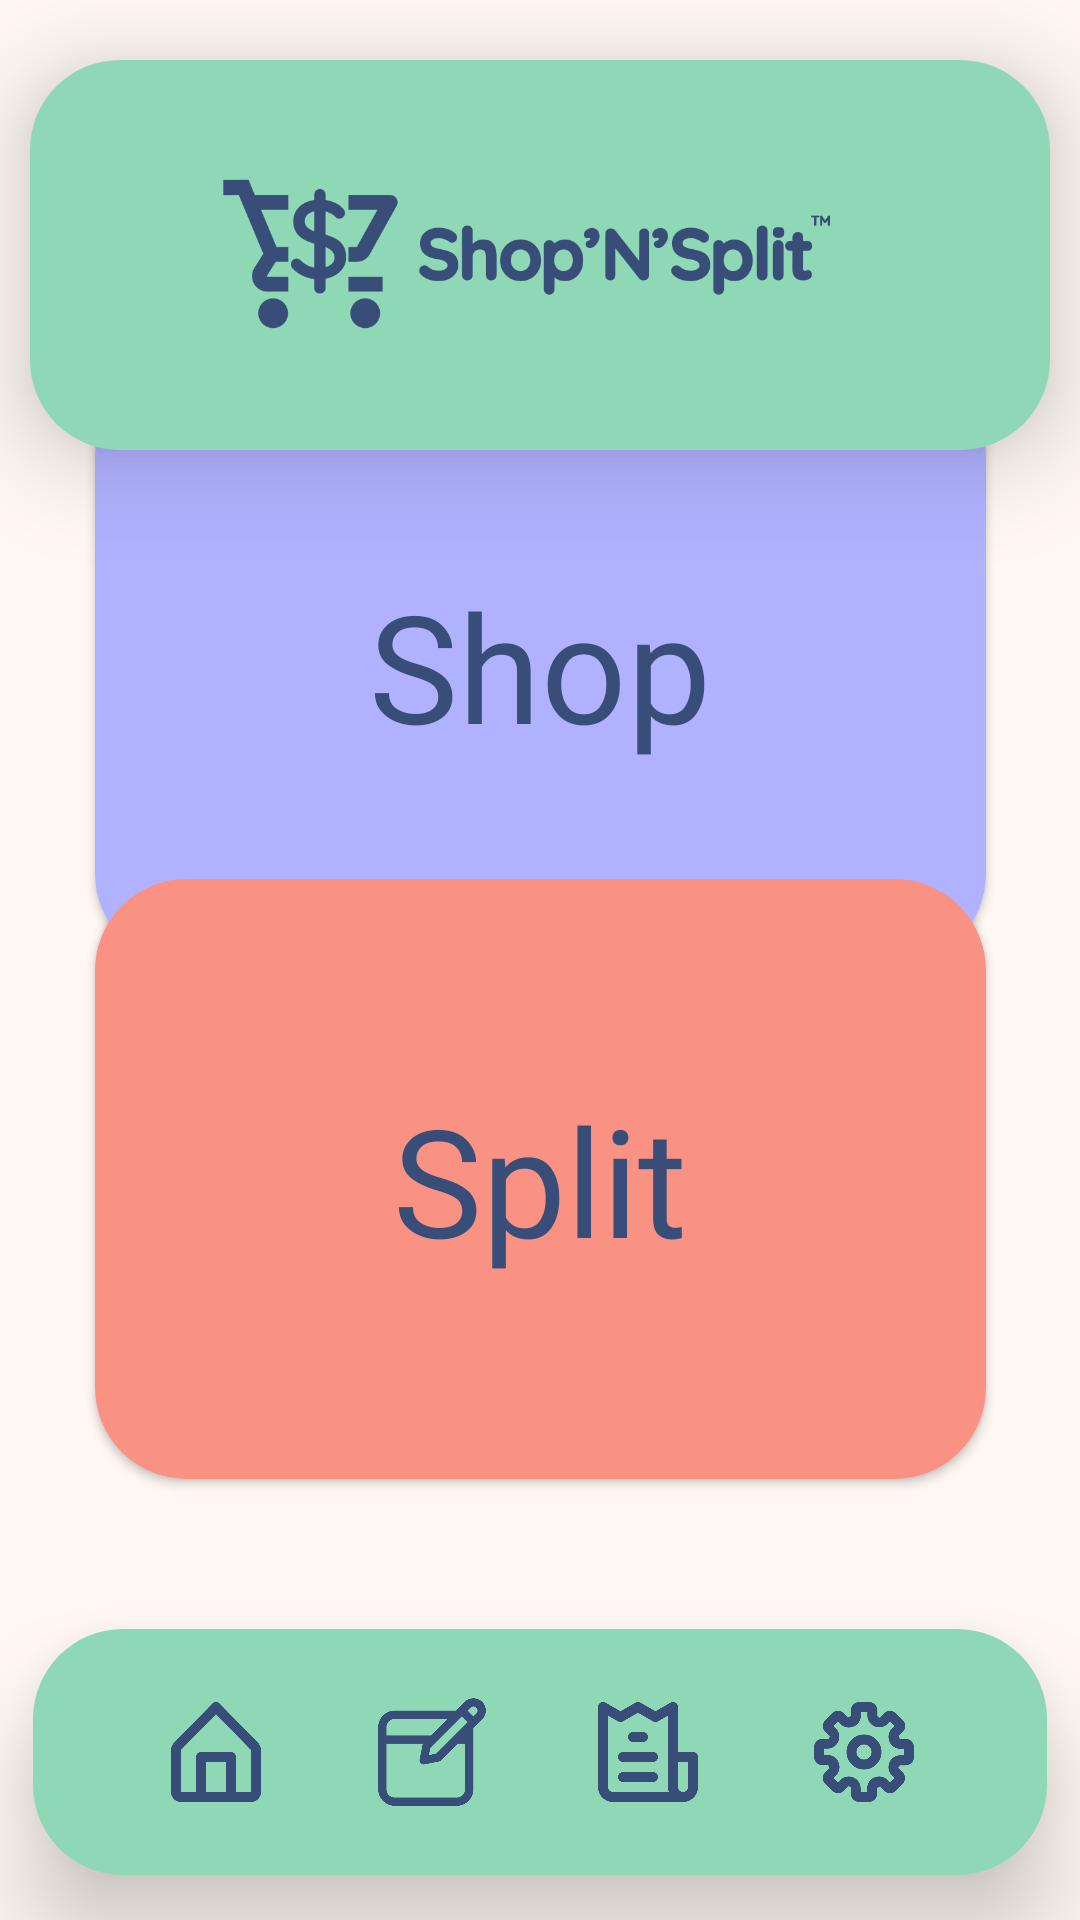

Screen size 1080px×1920px. Icon name, then its center in pixels as point (x, y):
bill: point (648, 1752)
home: point (216, 1752)
notes: point (432, 1752)
settings: point (864, 1752)
